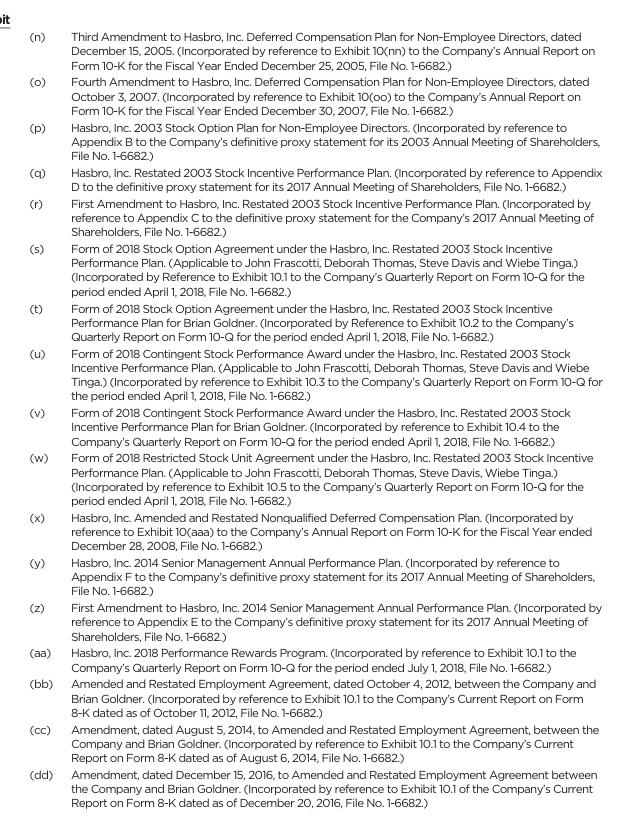table: (28, 29, 601, 809)
table column: (61, 29, 601, 809), (28, 29, 61, 809)
table row: (28, 448, 601, 508), (28, 239, 601, 298), (28, 344, 601, 403), (28, 72, 601, 118), (28, 298, 601, 344), (28, 674, 601, 720), (28, 118, 601, 163), (28, 194, 601, 239), (28, 403, 601, 448), (28, 508, 601, 553), (28, 553, 601, 598), (28, 598, 601, 643), (28, 720, 601, 765), (28, 765, 601, 809), (28, 29, 601, 72), (28, 163, 601, 194), (28, 643, 601, 674)
